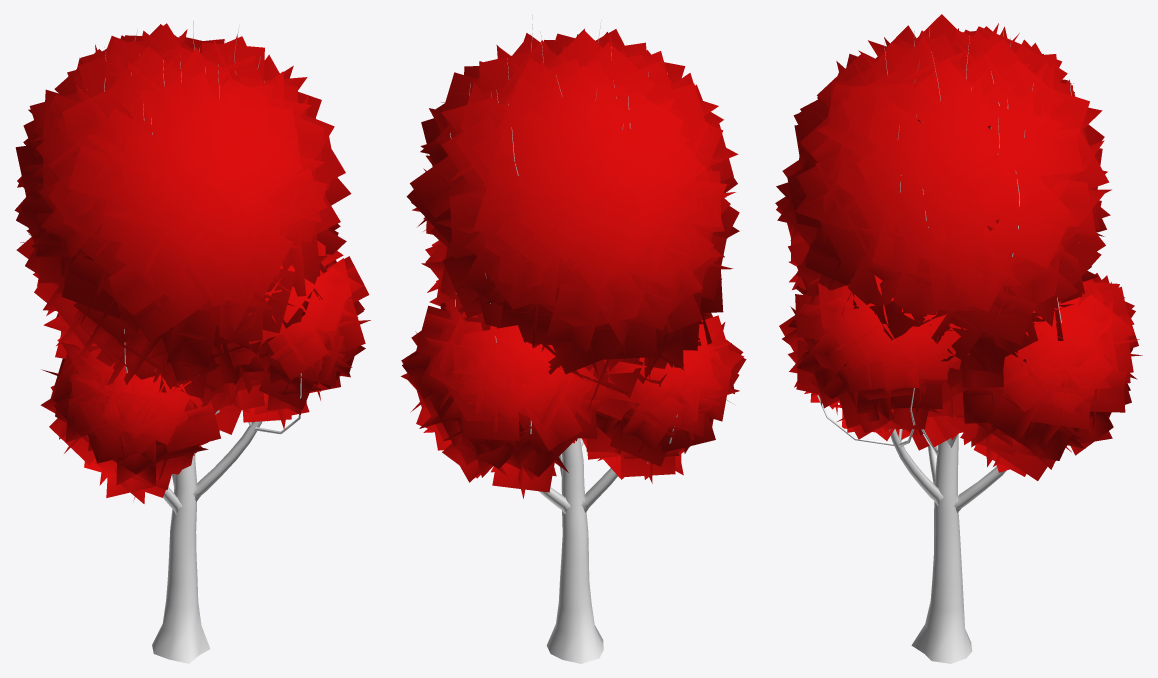
The model's file is SM_tree_03.FBX.
3 renders of one model, left to right at view 1: azimuth 30°, elevation 25°; view 2: azimuth 150°, elevation 25°; view 3: azimuth 270°, elevation 25°, orthographic.
Visible parts, largest first — view 1: SM_tree_03_LOD0; view 2: SM_tree_03_LOD0; view 3: SM_tree_03_LOD0.
Boxes of the visible parts, bbox=[...] form: SM_tree_03_LOD0: bbox=[14, 21, 370, 663]; SM_tree_03_LOD0: bbox=[401, 15, 746, 663]; SM_tree_03_LOD0: bbox=[775, 14, 1142, 663].
Size of what is drawn, in the model's own units: 1069 by 1160 by 2181.
